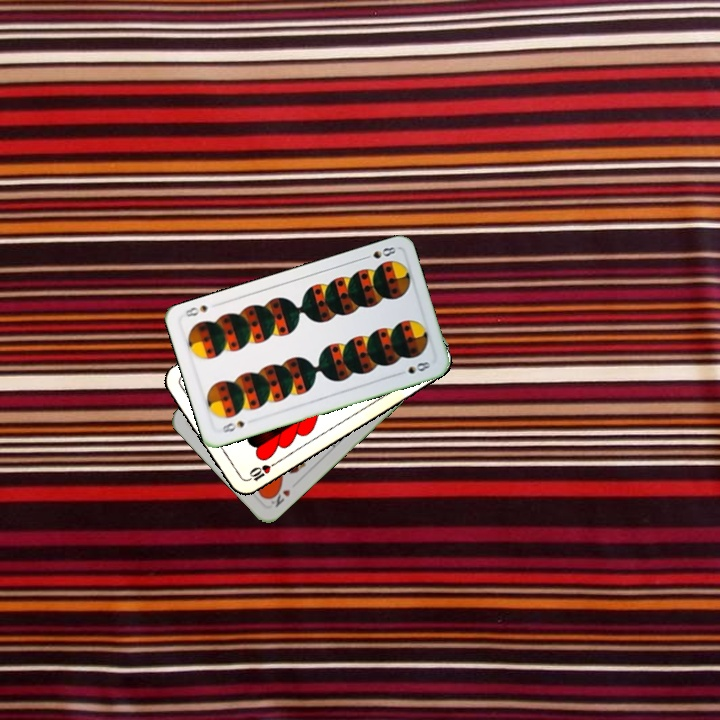H10: (241, 460, 273, 484)
HK: (264, 482, 293, 510)
S8: (358, 243, 398, 262), (218, 417, 247, 435)
